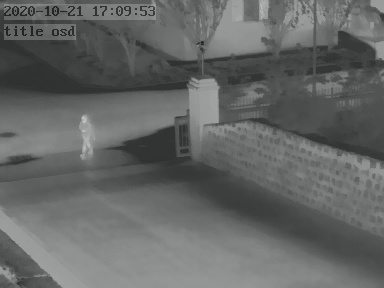person: (76, 112, 94, 159)
